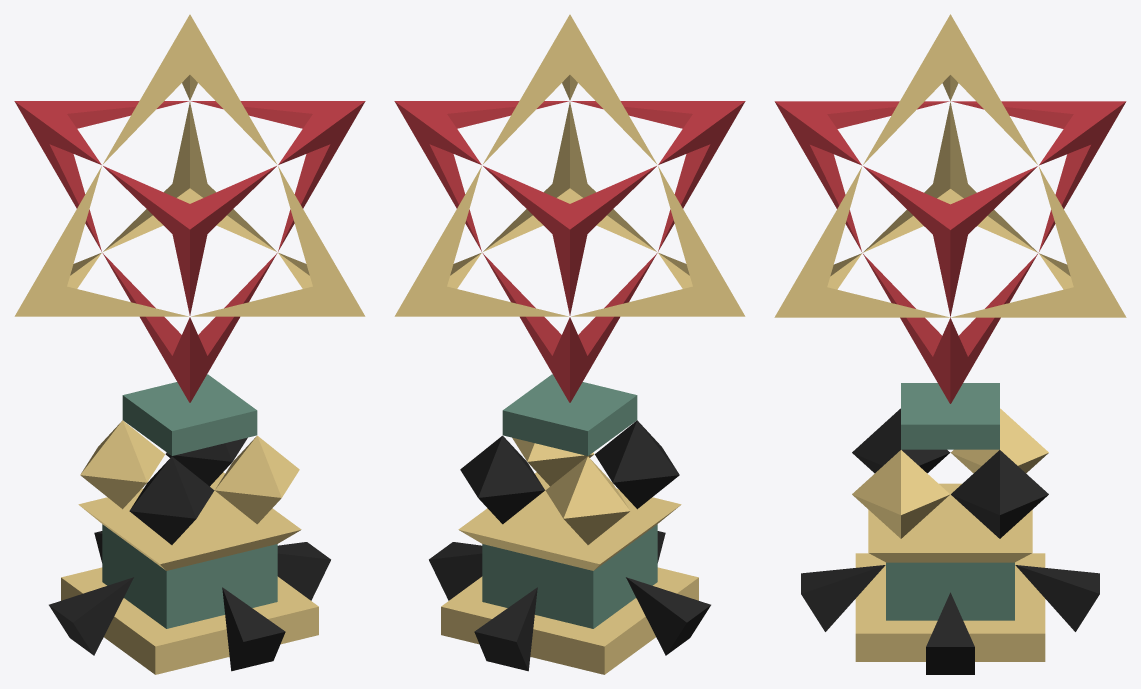
Rendered from EstrellaOctagula_Jamnitzer1.glb.
3 views of the same model, side by side, from view 1: azimuth 30°, elevation 25°; view 2: azimuth 150°, elevation 25°; view 3: azimuth 270°, elevation 25° (orthographic).
Parts seen in each view (by area): view 1: Solid.012, Cube.007, Cube.006, Solid.002, Solid.007, Solid.003, Cube.002, Cube.005, Cube.003, Solid.006; view 2: Solid.012, Cube.007, Cube.006, Solid.003, Solid.006, Solid.002, Cube.004, Cube.005, Cube.003, Solid.007; view 3: Solid.012, Cube.007, Cube.006, Solid.007, Solid.006, Cube.004, Cube.002, Cube.003, Solid.003, Solid.002.
Boxes of the visible parts, box(x1,y1,x2,y2) form: Solid.012: box(14, 14, 365, 402); Cube.007: box(61, 472, 318, 674); Cube.006: box(122, 374, 257, 455); Solid.002: box(129, 456, 214, 544); Solid.007: box(215, 435, 299, 524); Solid.003: box(80, 420, 164, 509); Cube.002: box(222, 587, 285, 671); Cube.005: box(49, 577, 133, 655); Cube.003: box(277, 542, 330, 600); Solid.006: box(165, 437, 247, 486); Solid.012: box(394, 14, 745, 402); Cube.007: box(441, 472, 698, 674); Cube.006: box(502, 374, 637, 455); Solid.003: box(545, 456, 630, 544); Solid.006: box(460, 435, 544, 524); Solid.002: box(595, 420, 679, 509); Cube.004: box(474, 587, 537, 671); Cube.005: box(626, 577, 710, 655); Cube.003: box(429, 542, 482, 600); Solid.007: box(512, 437, 594, 486); Solid.012: box(774, 14, 1126, 403); Cube.007: box(855, 483, 1045, 661); Cube.006: box(901, 383, 999, 449); Solid.007: box(852, 450, 949, 538); Solid.006: box(951, 450, 1048, 538); Cube.004: box(1015, 565, 1099, 631); Cube.002: box(801, 565, 885, 631); Cube.003: box(926, 592, 974, 674); Solid.003: box(950, 408, 1048, 473); Solid.002: box(852, 408, 950, 473).
Bounding box in the file's own units: 1.63 × 2.69 × 1.41.
